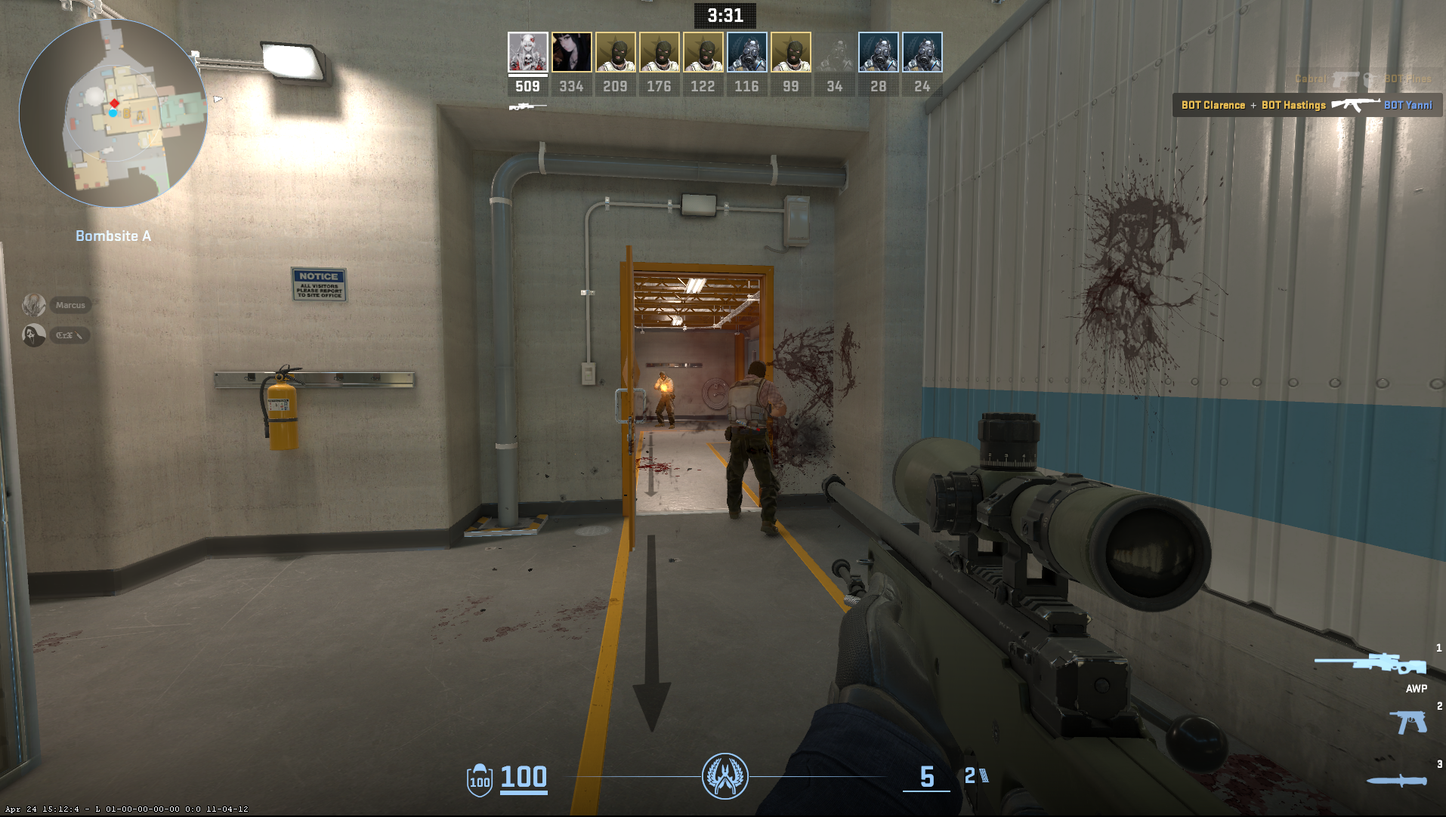T: (725, 362, 785, 536), (654, 371, 675, 429)
